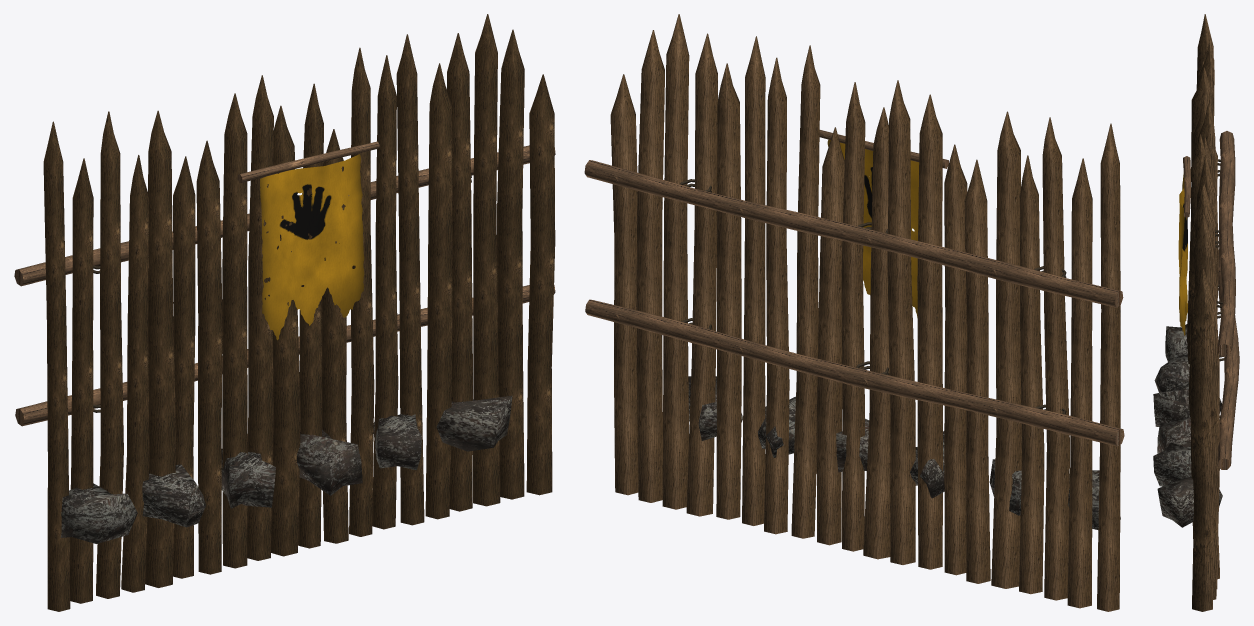
The model's file is SM_Bld_Player_FenceB.gltf.
The picture shows the model from 3 angles, left to right: view 1: azimuth 30°, elevation 25°; view 2: azimuth 150°, elevation 25°; view 3: azimuth 270°, elevation 25°; orthographic projection. The views are drawn at different scales.
Visible parts, largest first — view 1: SM_Bld_Player_FenceB; view 2: SM_Bld_Player_FenceB; view 3: SM_Bld_Player_FenceB.
Boxes of the visible parts, <box> form: SM_Bld_Player_FenceB: <box>14,14,555,611</box>; SM_Bld_Player_FenceB: <box>584,14,1124,611</box>; SM_Bld_Player_FenceB: <box>1153,14,1239,611</box>.
Bounding box in the file's own units: 4.2 × 3.69 × 0.7207.
5 materials, 5 textured.
